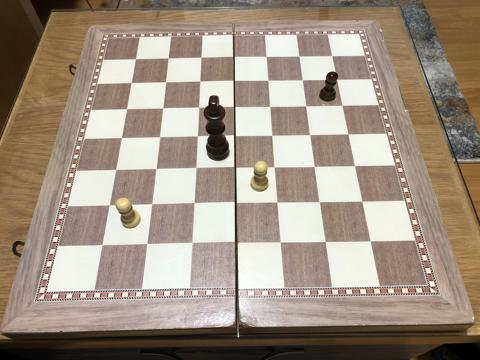xcorner: (328, 51, 340, 63), (262, 52, 274, 64), (229, 53, 241, 65), (196, 53, 208, 65), (163, 54, 175, 66), (130, 54, 142, 66), (298, 75, 310, 87), (160, 78, 172, 90), (338, 101, 350, 113), (193, 103, 205, 115), (157, 104, 169, 116), (121, 105, 133, 117), (306, 130, 318, 142), (268, 131, 280, 143), (192, 132, 204, 144), (154, 133, 166, 145), (350, 161, 362, 173), (310, 162, 322, 174), (270, 163, 282, 175), (230, 163, 242, 175), (190, 164, 202, 176), (150, 165, 162, 177), (315, 197, 327, 209), (273, 198, 285, 210), (231, 199, 243, 211), (104, 201, 116, 213), (365, 236, 377, 248), (321, 237, 333, 249), (187, 239, 199, 251), (142, 240, 154, 252), (97, 241, 109, 253), (295, 52, 307, 63), (333, 75, 344, 87), (264, 76, 275, 88), (229, 77, 241, 88), (195, 77, 206, 89), (126, 78, 137, 90), (302, 102, 314, 113), (266, 102, 277, 114), (230, 103, 241, 115), (344, 130, 356, 141), (230, 132, 242, 143), (116, 134, 128, 145), (110, 166, 122, 177), (357, 197, 369, 208), (189, 200, 201, 211), (147, 200, 158, 212), (276, 238, 288, 249), (232, 238, 243, 250)
